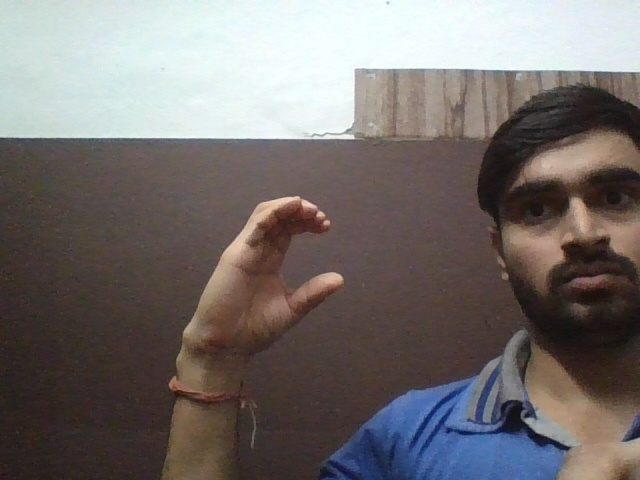C: (191, 182, 346, 367)
